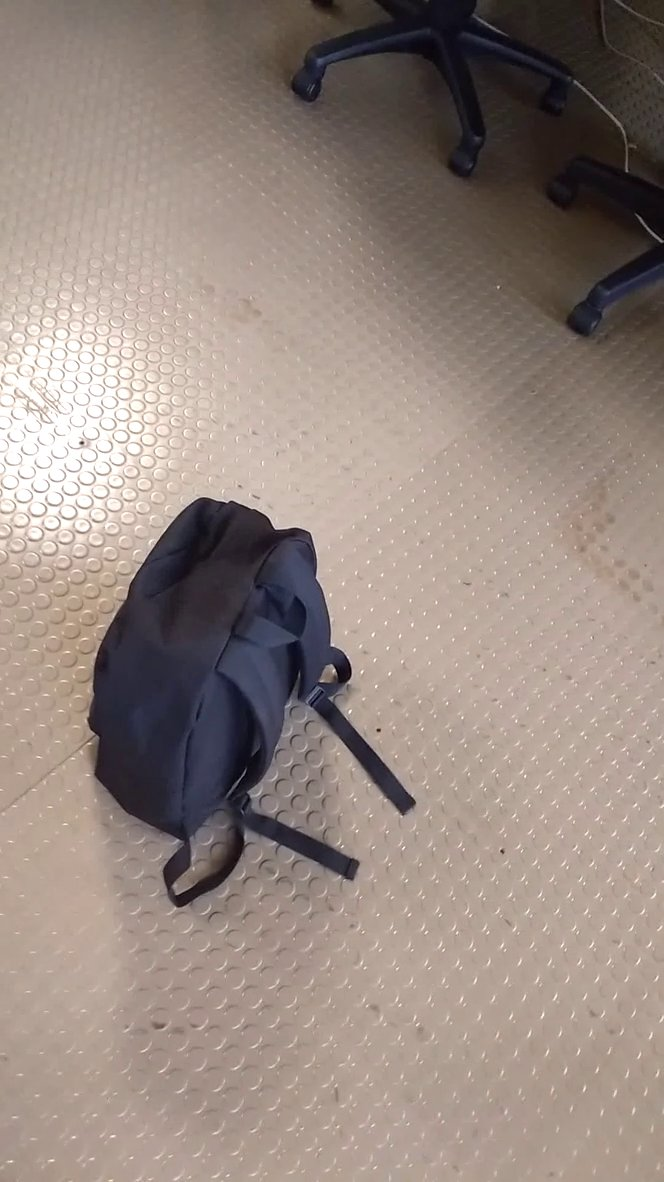bag: (79, 490, 424, 928)
